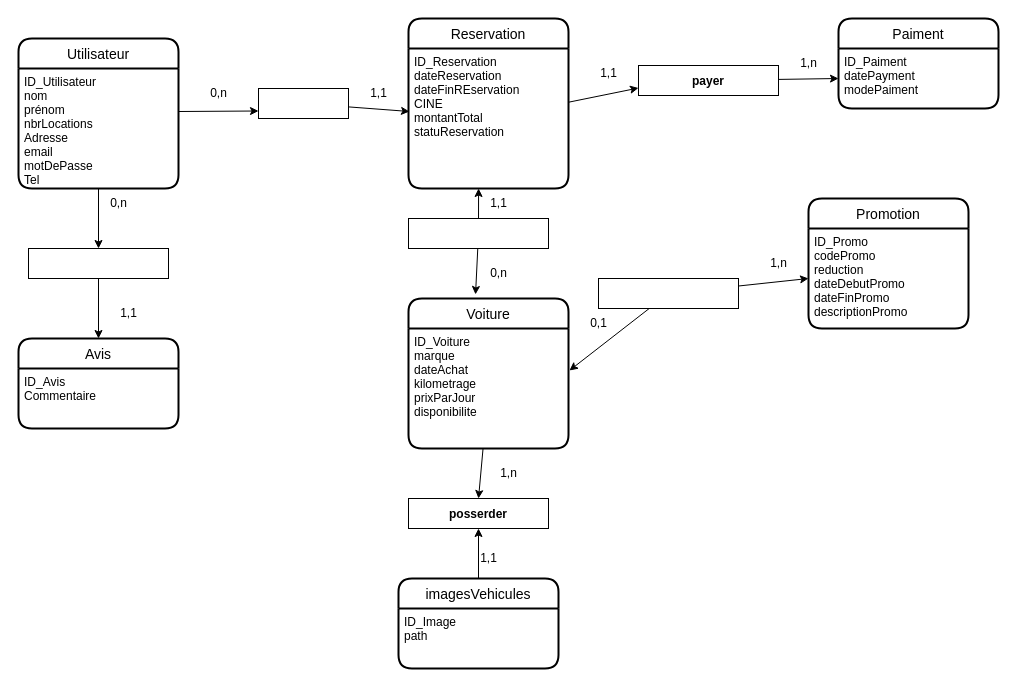
Image size: 1016x686. Some labels were removed from this diagram. Each missing label, with the centre of its shape:
"commenter" goes at [98,263].
"Promoter" goes at [668,293].
"reserver" goes at [303,103].
"reserverVoiture" goes at [478,233].
